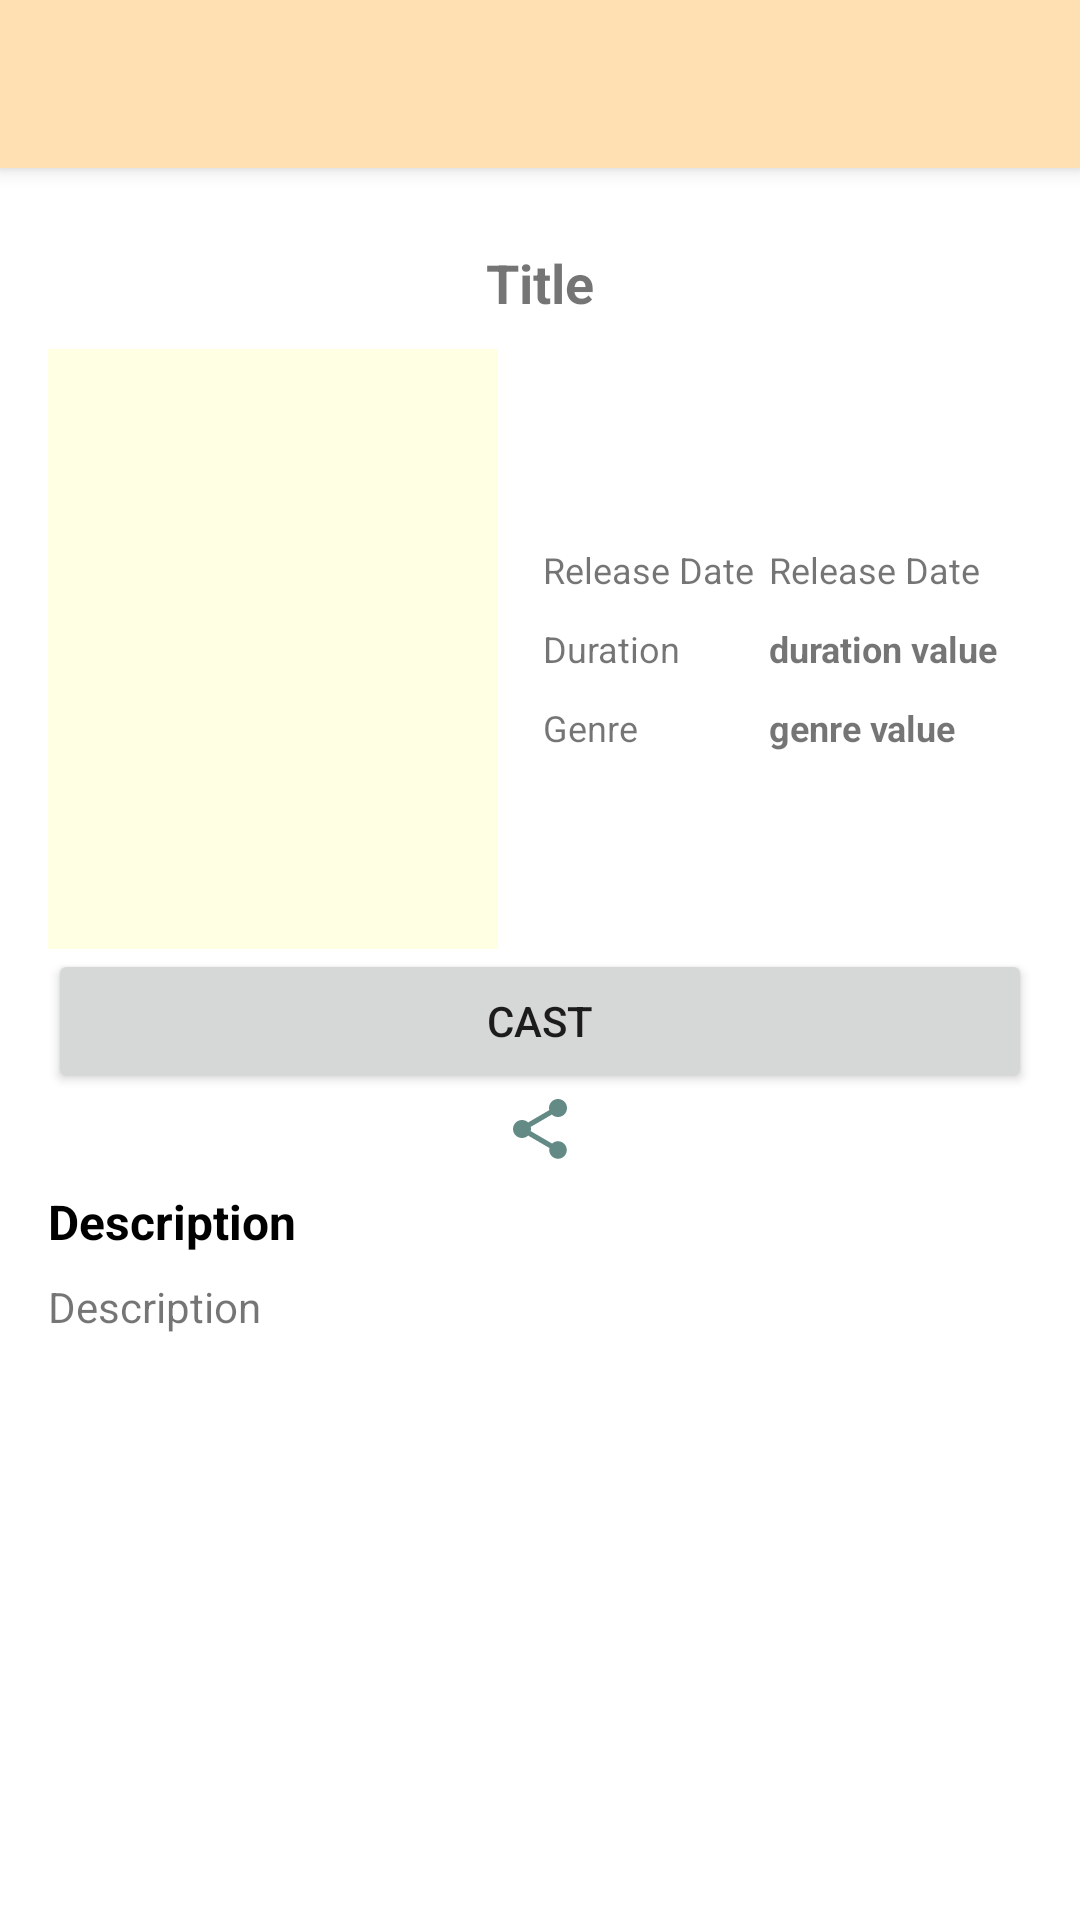

Icon click points for this 1080w x 1920h phone screenshot, format (x,y):
share: (540,1129)
